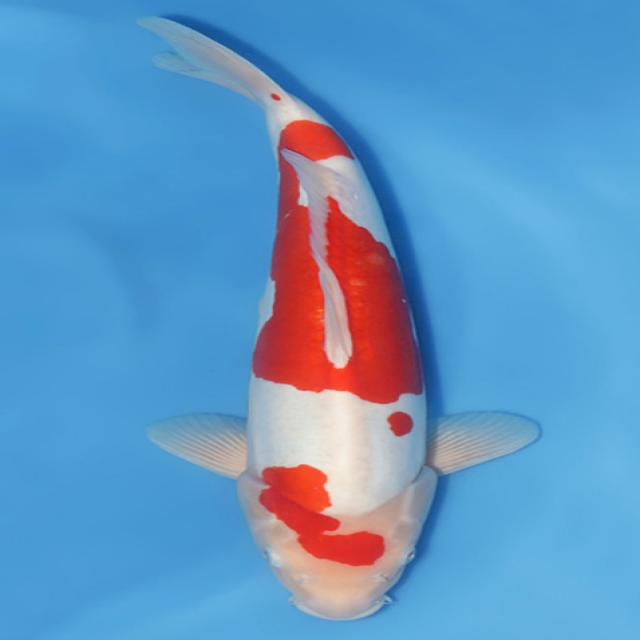Kohaku: (134, 14, 541, 621)
